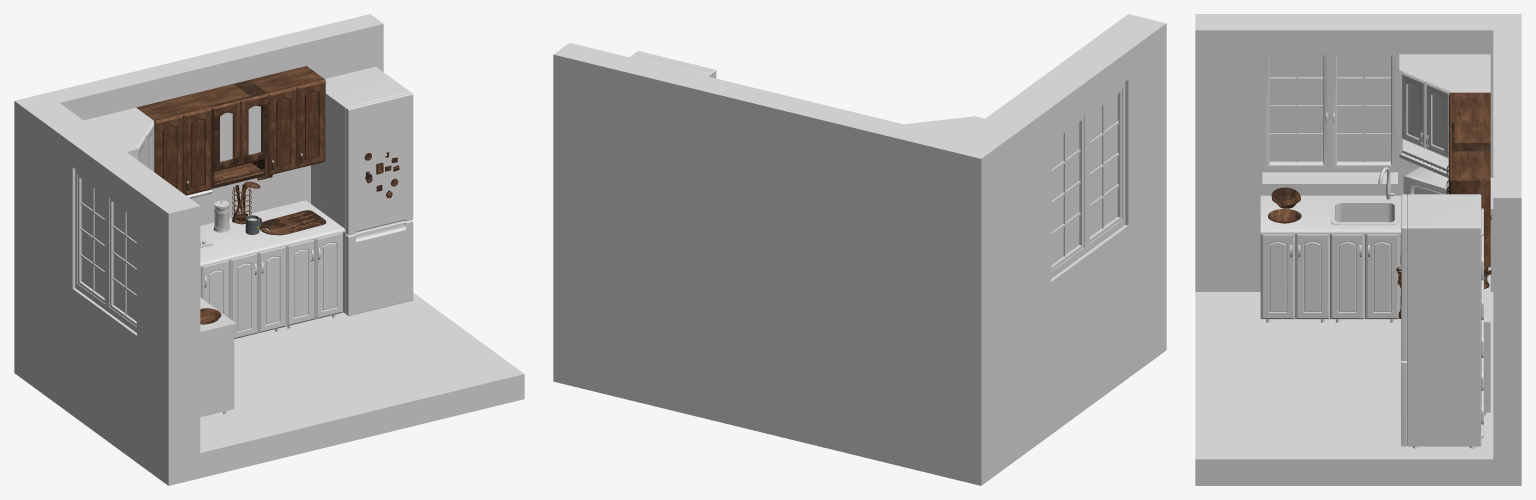
Rendered from Kitchen.fbx.
3 renders of one model, left to right at view 1: azimuth 30°, elevation 25°; view 2: azimuth 150°, elevation 25°; view 3: azimuth 270°, elevation 25°, orthographic. The views are drawn at different scales.
Visible parts, largest first — view 1: Os_Плоскость:002, fridge1_low.001, fridge1_low, fridge1_low.002, window4_low, cupboard1_low.004, window1_low, cupboard2_low.003, cupboardup2_low.001, cupboardup2_low, cupboardup2_low.004, cupboard2_low.004 (+16 smaller); view 2: Os_Плоскость:002, window4_low, window1_low, window2_low, cupboardupsbok1_low; view 3: Os_Плоскость:002, fridge1_low, window4_low, window1_low, cupboardupsbok1_low, cupboard2_low.008, cupboard2_low.007, cupboard2_low.009, cupboard2_low.006, cupboardup1_low, cupboard1_low.004, Куб.002 (+16 smaller).
Boxes of the visible parts, x1=… form: Os_Плоскость:002: x1=14, y1=14, x2=524, y2=485; fridge1_low.001: x1=346, y1=92, x2=413, y2=234; fridge1_low: x1=311, y1=66, x2=409, y2=313; fridge1_low.002: x1=346, y1=220, x2=413, y2=315; window4_low: x1=81, y1=179, x2=136, y2=321; cupboard1_low.004: x1=200, y1=299, x2=237, y2=417; window1_low: x1=78, y1=174, x2=136, y2=326; cupboard2_low.003: x1=257, y1=246, x2=286, y2=333; cupboardup2_low.001: x1=268, y1=86, x2=296, y2=175; cupboardup2_low: x1=297, y1=79, x2=325, y2=168; cupboardup2_low.004: x1=183, y1=107, x2=211, y2=195; cupboard2_low.004: x1=286, y1=239, x2=314, y2=326; Os_Плоскость:002: x1=553, y1=14, x2=1166, y2=485; window4_low: x1=1051, y1=94, x2=1117, y2=264; window1_low: x1=1051, y1=88, x2=1122, y2=270; window2_low: x1=1051, y1=82, x2=1125, y2=278; cupboardupsbok1_low: x1=906, y1=116, x2=984, y2=137; Os_Плоскость:002: x1=1195, y1=14, x2=1521, y2=485; fridge1_low: x1=1407, y1=194, x2=1481, y2=446; window4_low: x1=1269, y1=55, x2=1390, y2=161; window1_low: x1=1264, y1=55, x2=1396, y2=169; cupboardupsbok1_low: x1=1399, y1=54, x2=1490, y2=177; cupboard2_low.008: x1=1260, y1=234, x2=1295, y2=319; cupboard2_low.007: x1=1364, y1=234, x2=1399, y2=319; cupboard2_low.009: x1=1295, y1=234, x2=1329, y2=319; cupboard2_low.006: x1=1330, y1=234, x2=1364, y2=319; cupboardup1_low: x1=1451, y1=151, x2=1490, y2=267; cupboard1_low.004: x1=1260, y1=195, x2=1329, y2=234; Куб.002: x1=1331, y1=201, x2=1398, y2=224.
Bounding box in the file's own units: 438 × 320 × 328.
